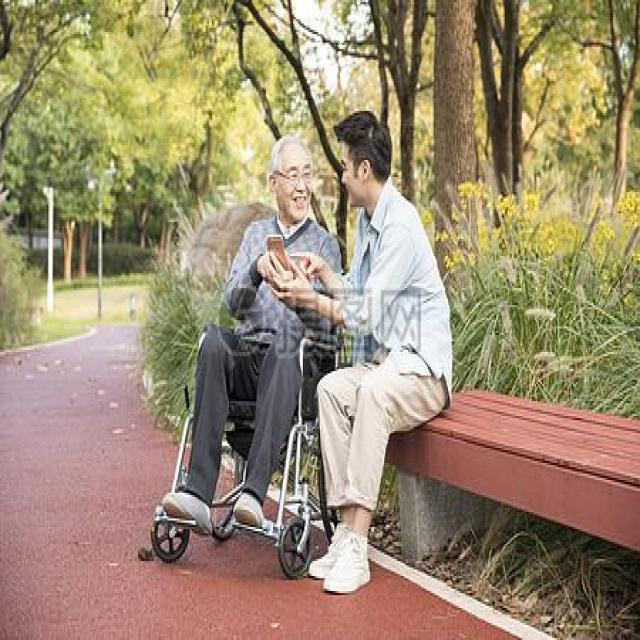wheelchairs: (138, 241, 386, 575)
